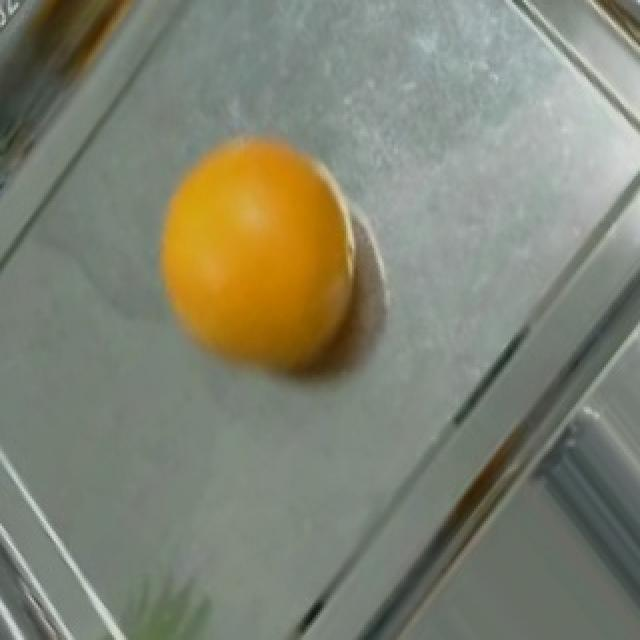Fruit: (138, 126, 380, 402)
